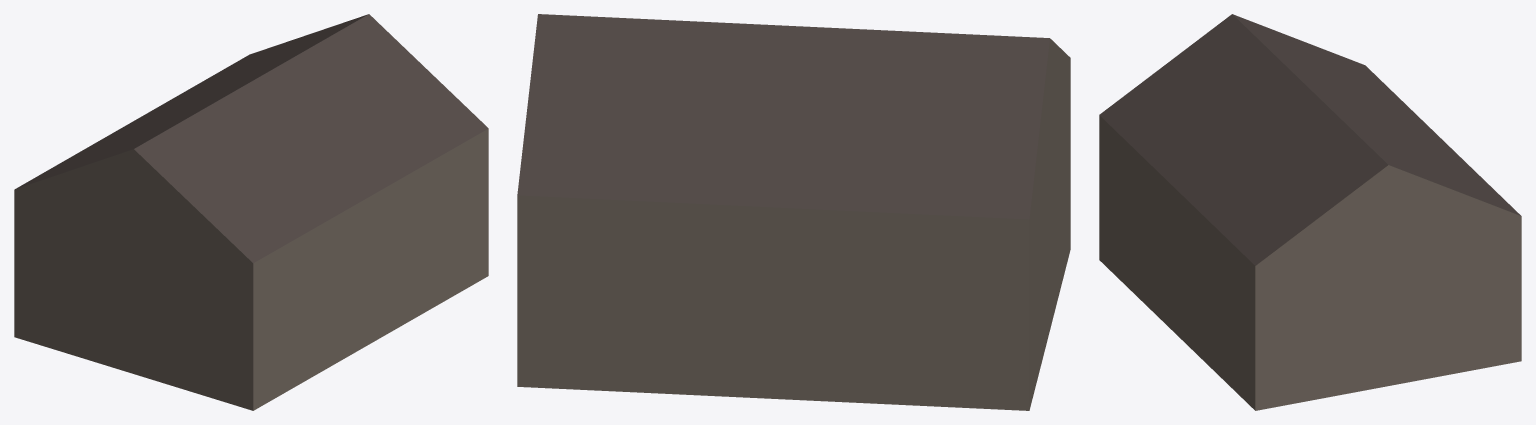
3 renders of one model, left to right at view 1: azimuth 30°, elevation 25°; view 2: azimuth 150°, elevation 25°; view 3: azimuth 270°, elevation 25°, orthographic. The views are drawn at different scales.
Visible parts, largest first — view 1: HP-w369342479; view 2: HP-w369342479; view 3: HP-w369342479.
Part boxes in pixels (bbox=[...]): HP-w369342479: bbox=[14, 14, 488, 410]; HP-w369342479: bbox=[517, 14, 1070, 410]; HP-w369342479: bbox=[1099, 14, 1521, 410].
Bounding box in the file's own units: 26.74 × 13.73 × 23.78.
